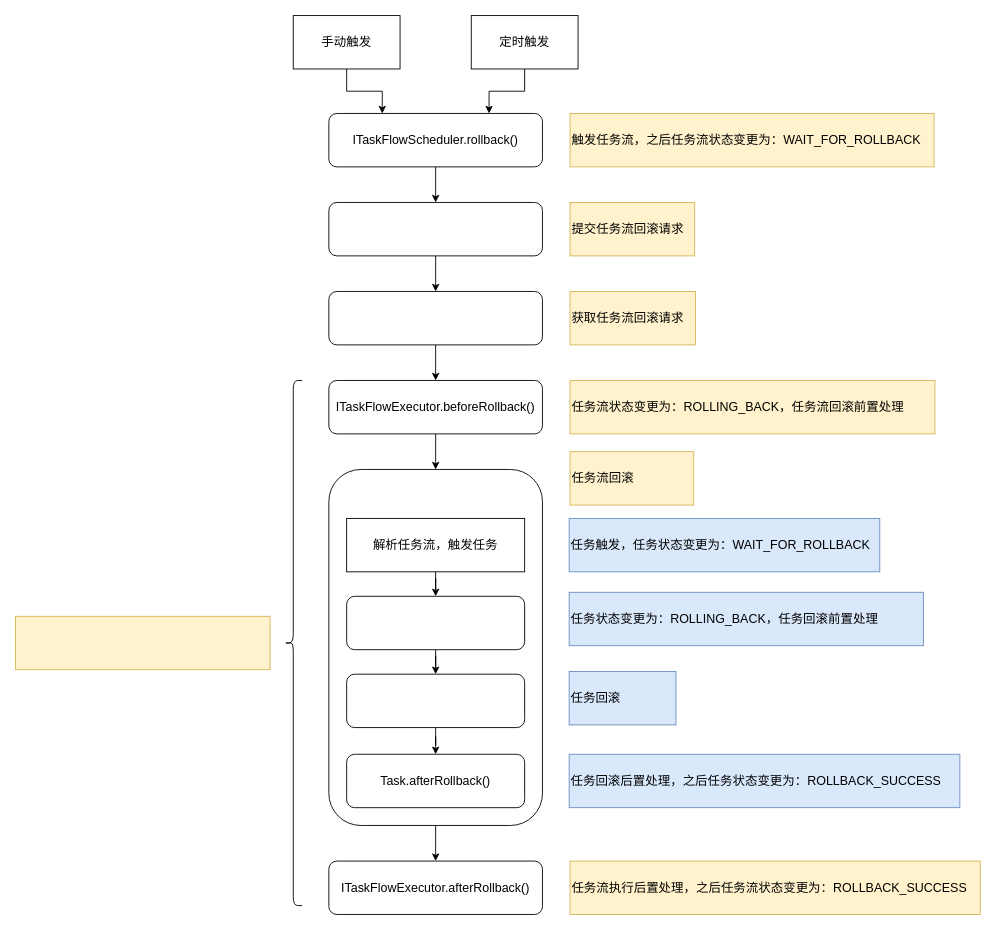
Image size: 996x930. Some labels were removed from this diagram. Here are the shapes that lost their labels. From the top down, the box of each, then its label:
(328, 202, 542, 256): IClusterController.execRequestOffer()
(328, 291, 542, 345): IClusterController.execRequestPoll()
(15, 615, 270, 670): 任一步骤回滚异常， 则任务流状态变更为：ROLLBACK_FAILURE
(346, 595, 525, 650): Task.beforeRollback()
(328, 469, 542, 825): ITaskFlowExecutor.rollback()
(346, 673, 525, 728): Task.rollback()
